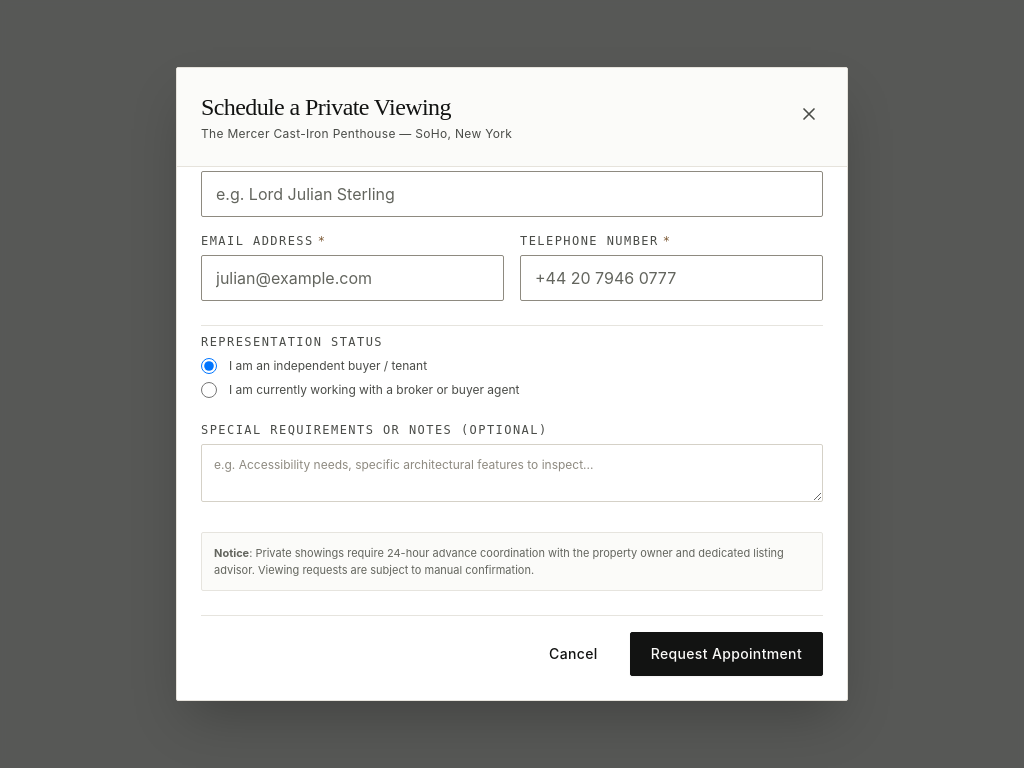
Test: Milestone 3: ViewingModal & Viewing Request Workflow › validates required fields and displays inline error messages on invalid submit
(page scrolled)
// Click submit without entering required inputs
Click the button "Request Appointment". click: (726, 654)
box: [630,632,823,676]
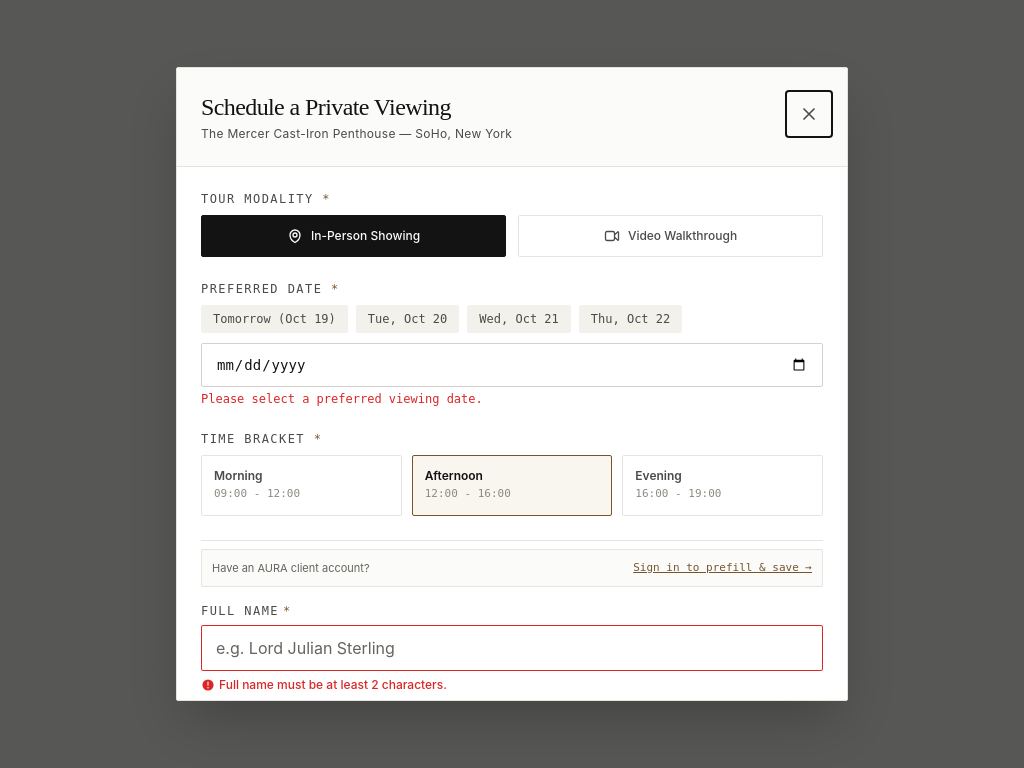
Check: the text "Full name must be at least 2 characters." is shown, box [219,677,447,693]
Check: the text "Please select a preferred viewing date." is shown, box [201,392,483,406]
